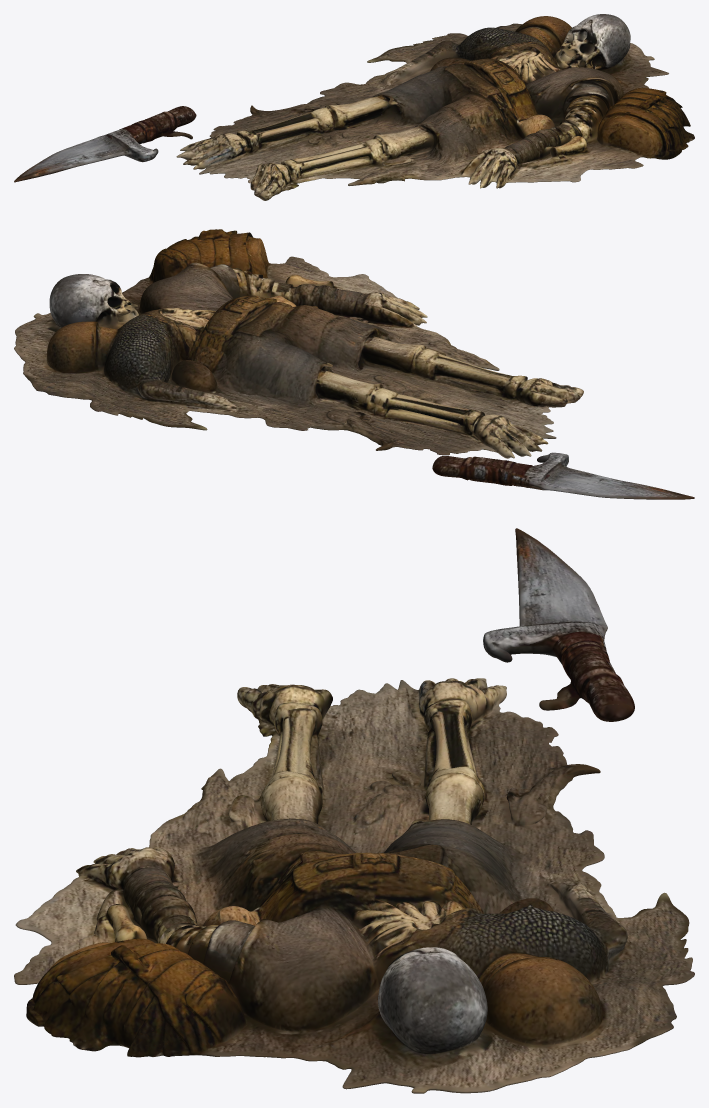
Rendered from skeleton_corpse.glb.
3 renders of one model, top to bottom at view 1: azimuth 30°, elevation 25°; view 2: azimuth 150°, elevation 25°; view 3: azimuth 270°, elevation 25°, orthographic. The views are drawn at different scales.
Parts seen in each view (by area): view 1: material; view 2: material; view 3: material.
Part boxes in pixels (x1,y1,x2,y2): material: [14, 14, 694, 200]; material: [14, 229, 694, 499]; material: [14, 528, 694, 1093].
Bounding box in the file's own units: 1.16 × 0.0975 × 0.6061.
Materials: 1 (1 with a texture image).
